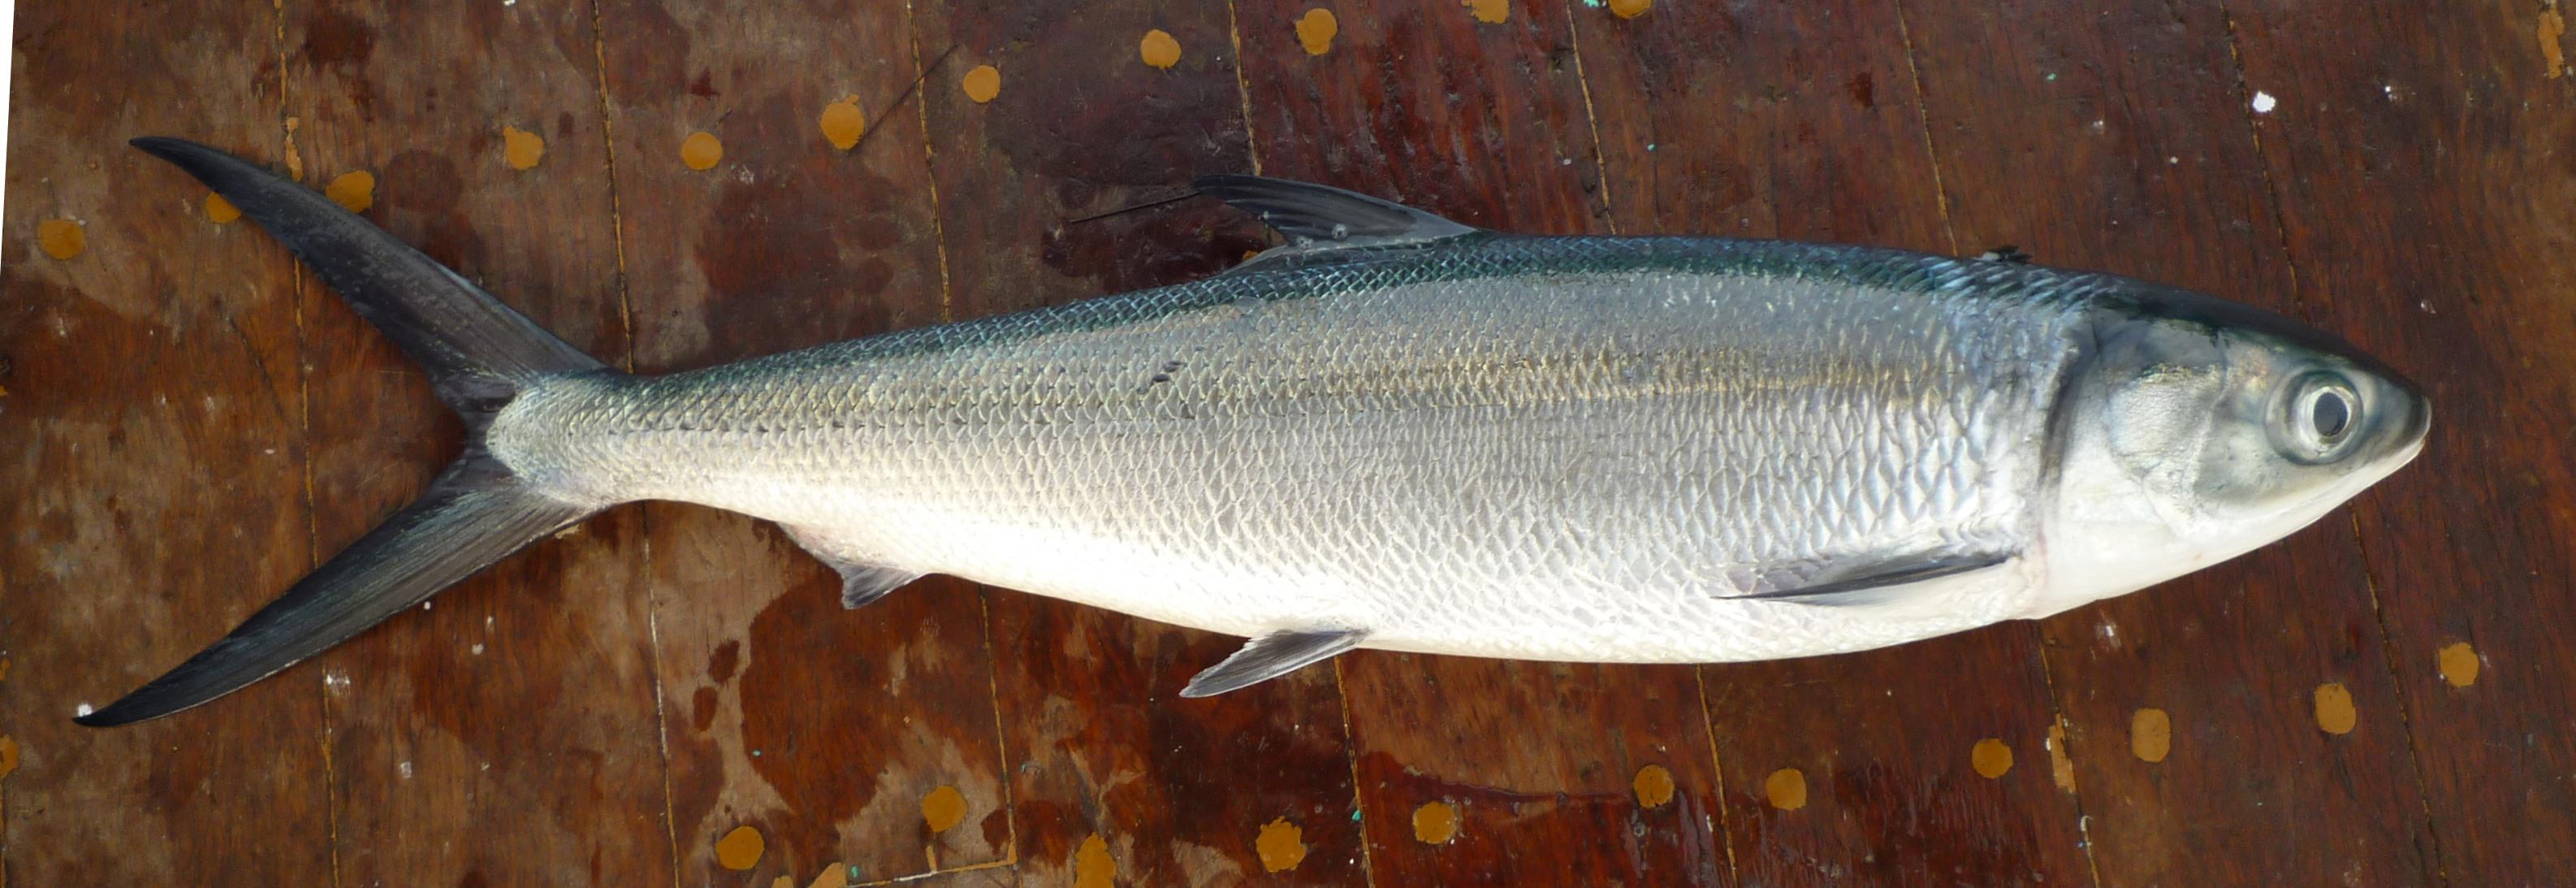Bangus: (112, 122, 2433, 755)
